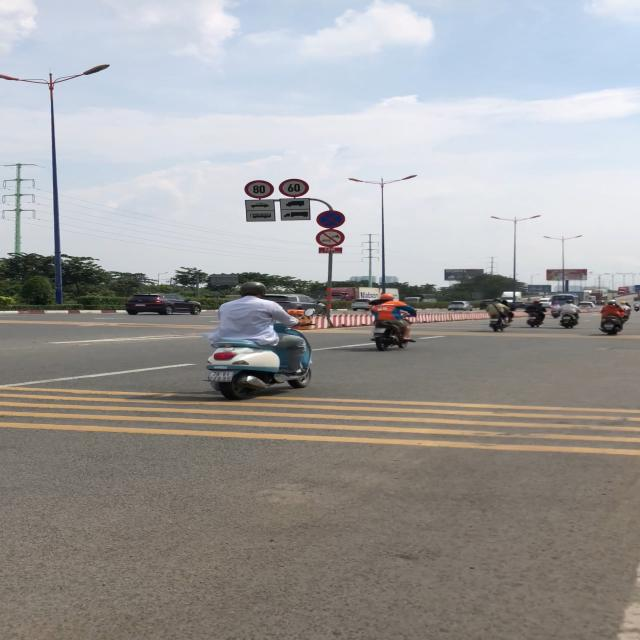Bien bao cam dung xe va do xe: (316, 210, 348, 229)
Bien bao toc do toi da cho phep: (278, 178, 311, 198), (242, 179, 274, 198)
